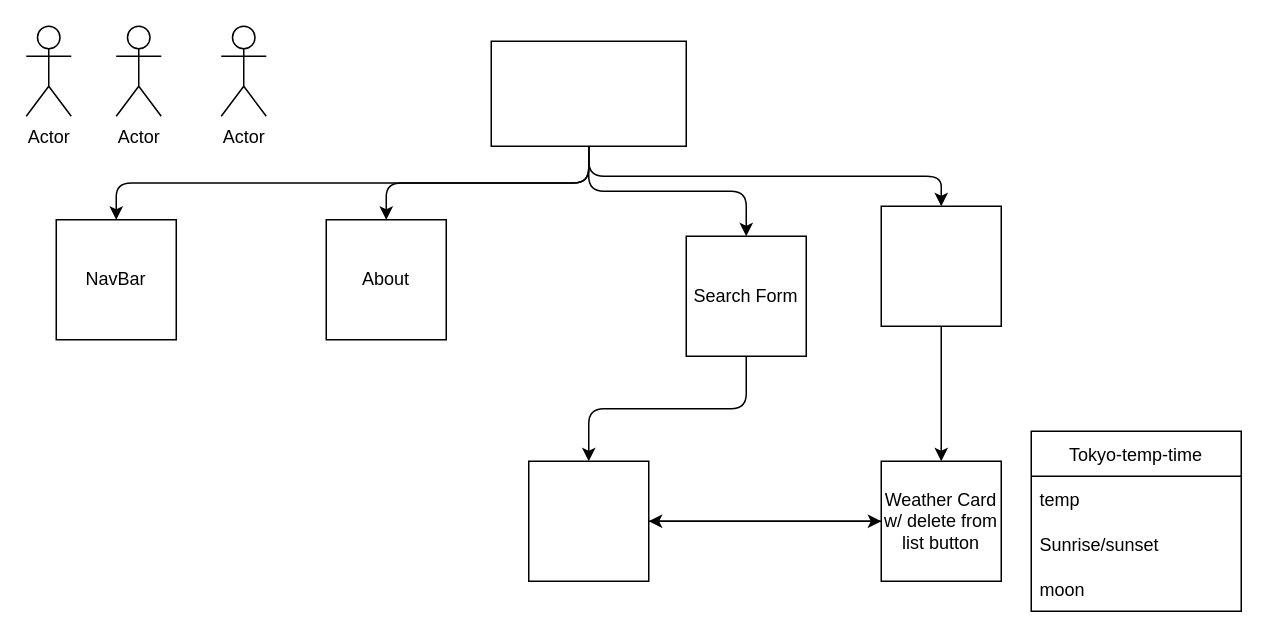
This 1268x638 diagram has some shape labels left out. The shapes that lost their labels are listed below. From the top down, each one's centre as x and y in pixels, then its label:
At [588,93]: "App".
At [940,265]: "Weather /watch List".
At [588,520]: "Same weather card w/ add to list button".
